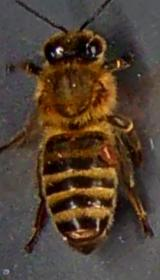varroa_mite: (92, 138, 126, 172)
